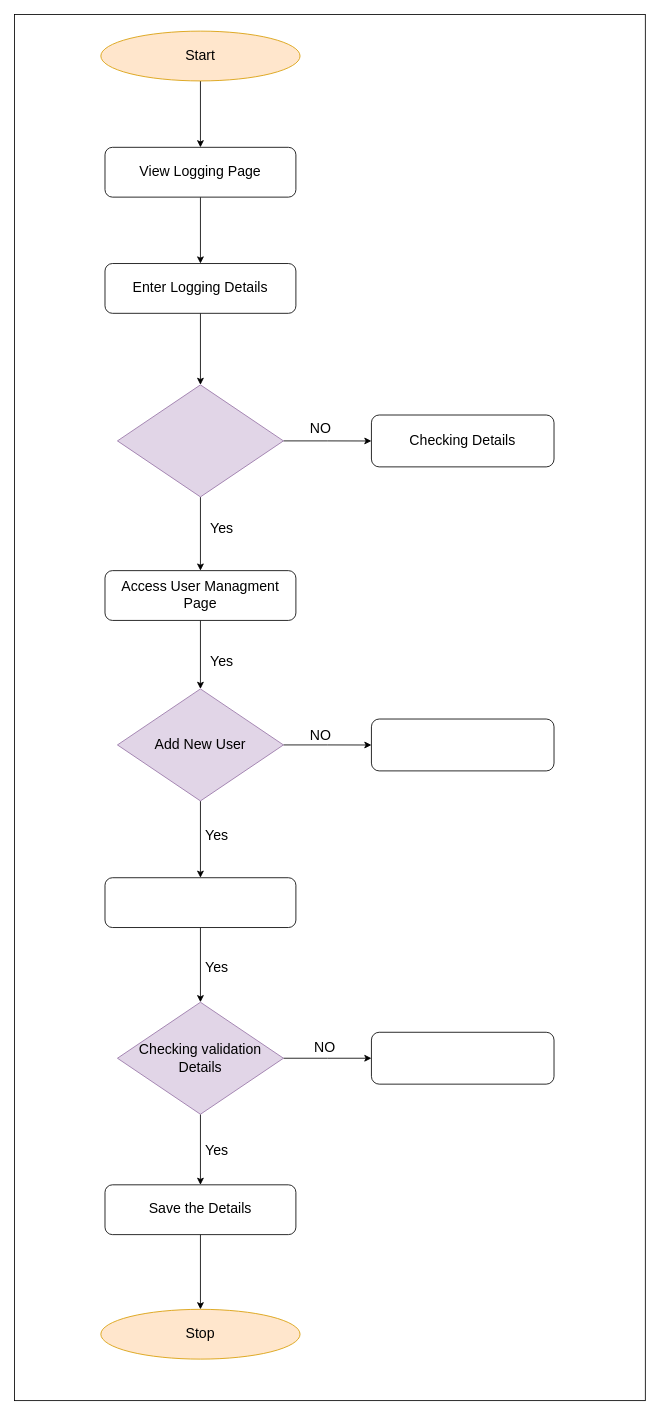
Image size: 660x1415. Some labels were removed from this diagram. The shapes that lost their labels are listed below. From the top down, each one's centre as x and y in pixels, then its label:
At point 200,440: "Checking Username & Password".
At point 462,744: "Log Out".
At point 200,902: "Enter Details to the Required Fields".
At point 462,1057: "Re Enter Details".
